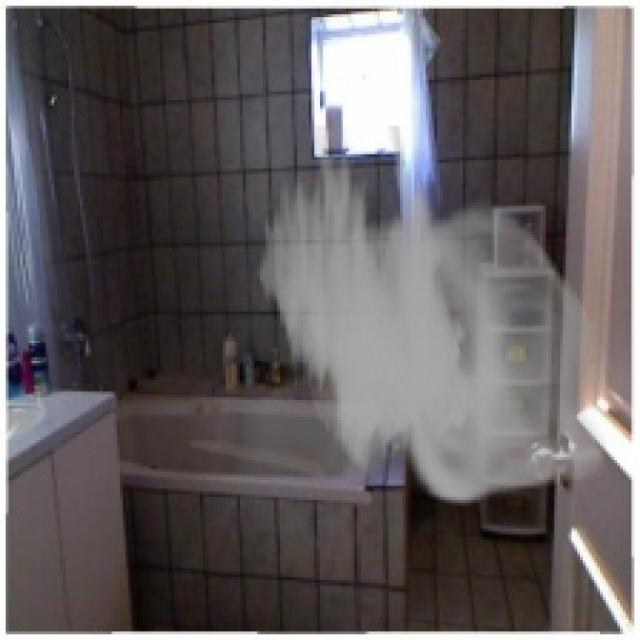smoke: (254, 126, 606, 506)
